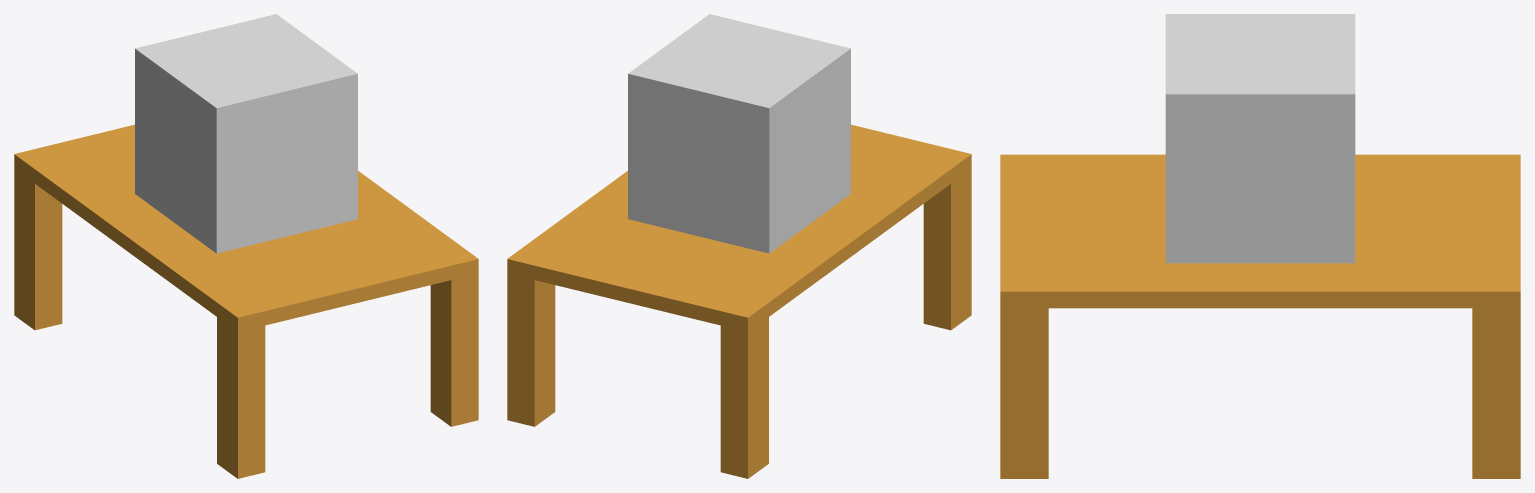
Rendered from TVDummy.fbx.
3 renders of one model, left to right at view 1: azimuth 30°, elevation 25°; view 2: azimuth 150°, elevation 25°; view 3: azimuth 270°, elevation 25°, orthographic. The views are drawn at different scales.
Visible parts, largest first — view 1: Cube; view 2: Cube; view 3: Cube.
Part boxes in pixels (<box>): Cube: <box>14,14,478,478</box>; Cube: <box>507,14,971,478</box>; Cube: <box>1000,14,1520,478</box>.
Size of the model in its own units: 94.26 by 115 by 152.
